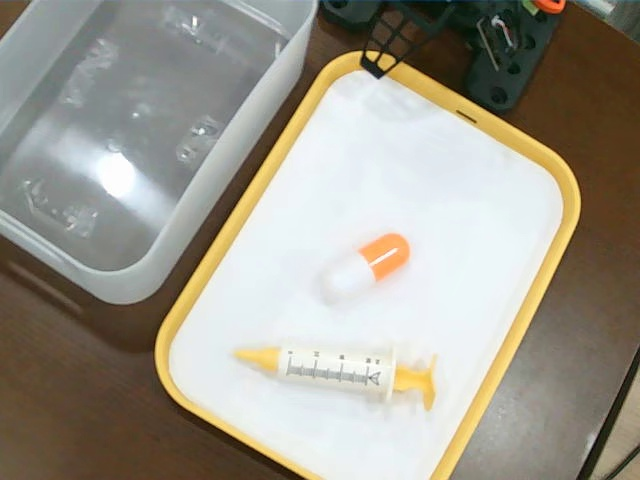pill: (312, 231, 419, 302)
syringe: (229, 341, 442, 413)
